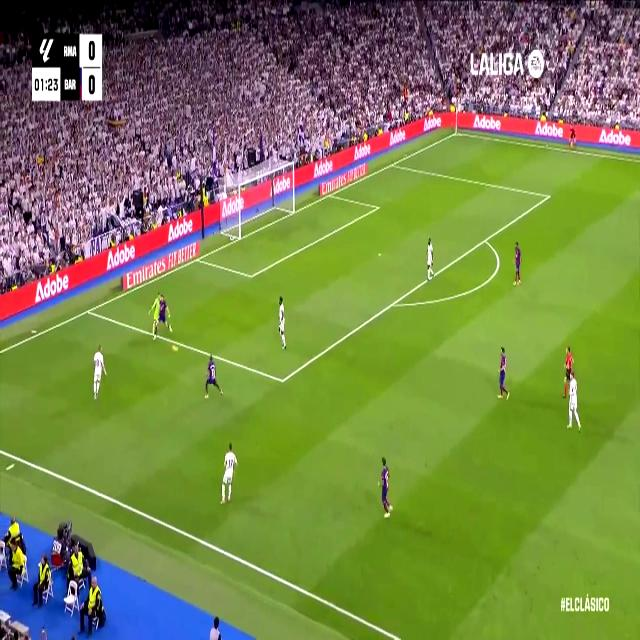bigarea_bottom_inner: (278, 368, 288, 392)
bigarea_bottom_outter: (84, 302, 92, 318)
bigarea_top_inner: (545, 189, 551, 202)
bigarea_top_outter: (390, 158, 396, 169)
bottom_arc_area_intersection: (388, 294, 398, 312)
corner: (454, 128, 459, 136)
smallarea_bottom_inner: (247, 267, 255, 285)
smallarea_bottom_outter: (194, 251, 202, 265)
smallarea_top_inner: (375, 202, 379, 212)
top_arc_area_intersection: (481, 232, 489, 247)
